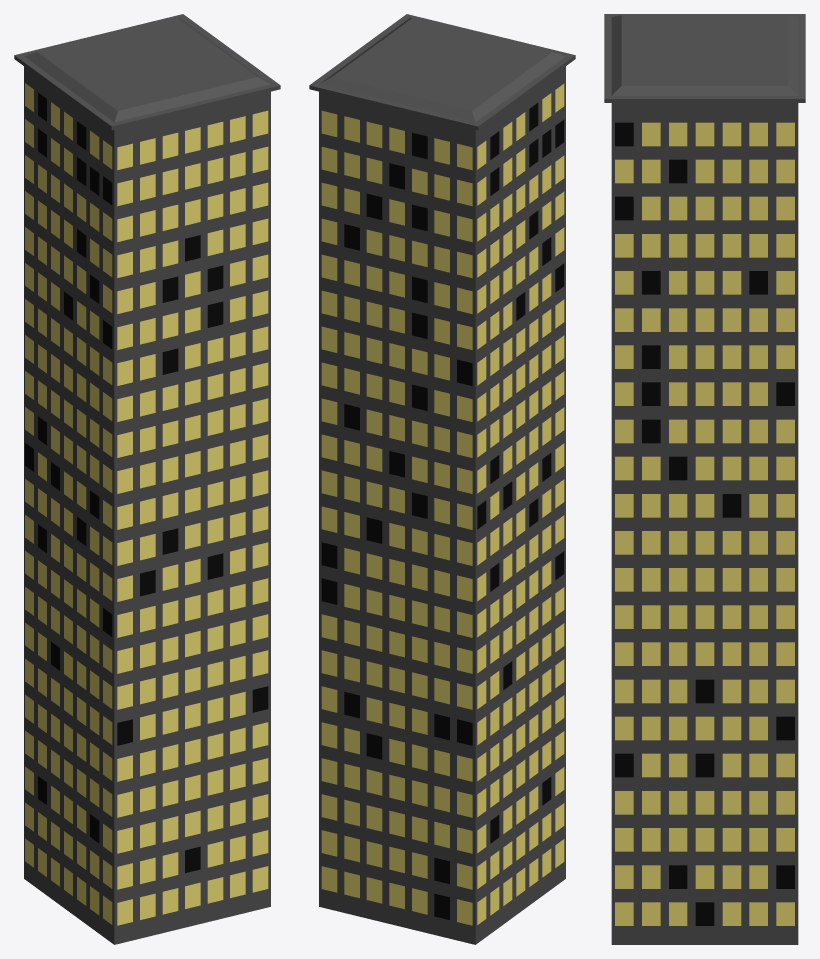
File: Building.FBX
The picture shows the model from 3 angles, left to right: view 1: azimuth 30°, elevation 25°; view 2: azimuth 150°, elevation 25°; view 3: azimuth 270°, elevation 25°; orthographic projection. The views are drawn at different scales.
Visible parts, largest first — view 1: Box001; view 2: Box001; view 3: Box001.
Part boxes in pixels (left/top/right/bottom): Box001: left=14, top=14, right=280, bottom=944; Box001: left=309, top=14, right=575, bottom=944; Box001: left=604, top=14, right=805, bottom=944.
Size of the model in its own units: 53.99 by 253 by 53.99.
